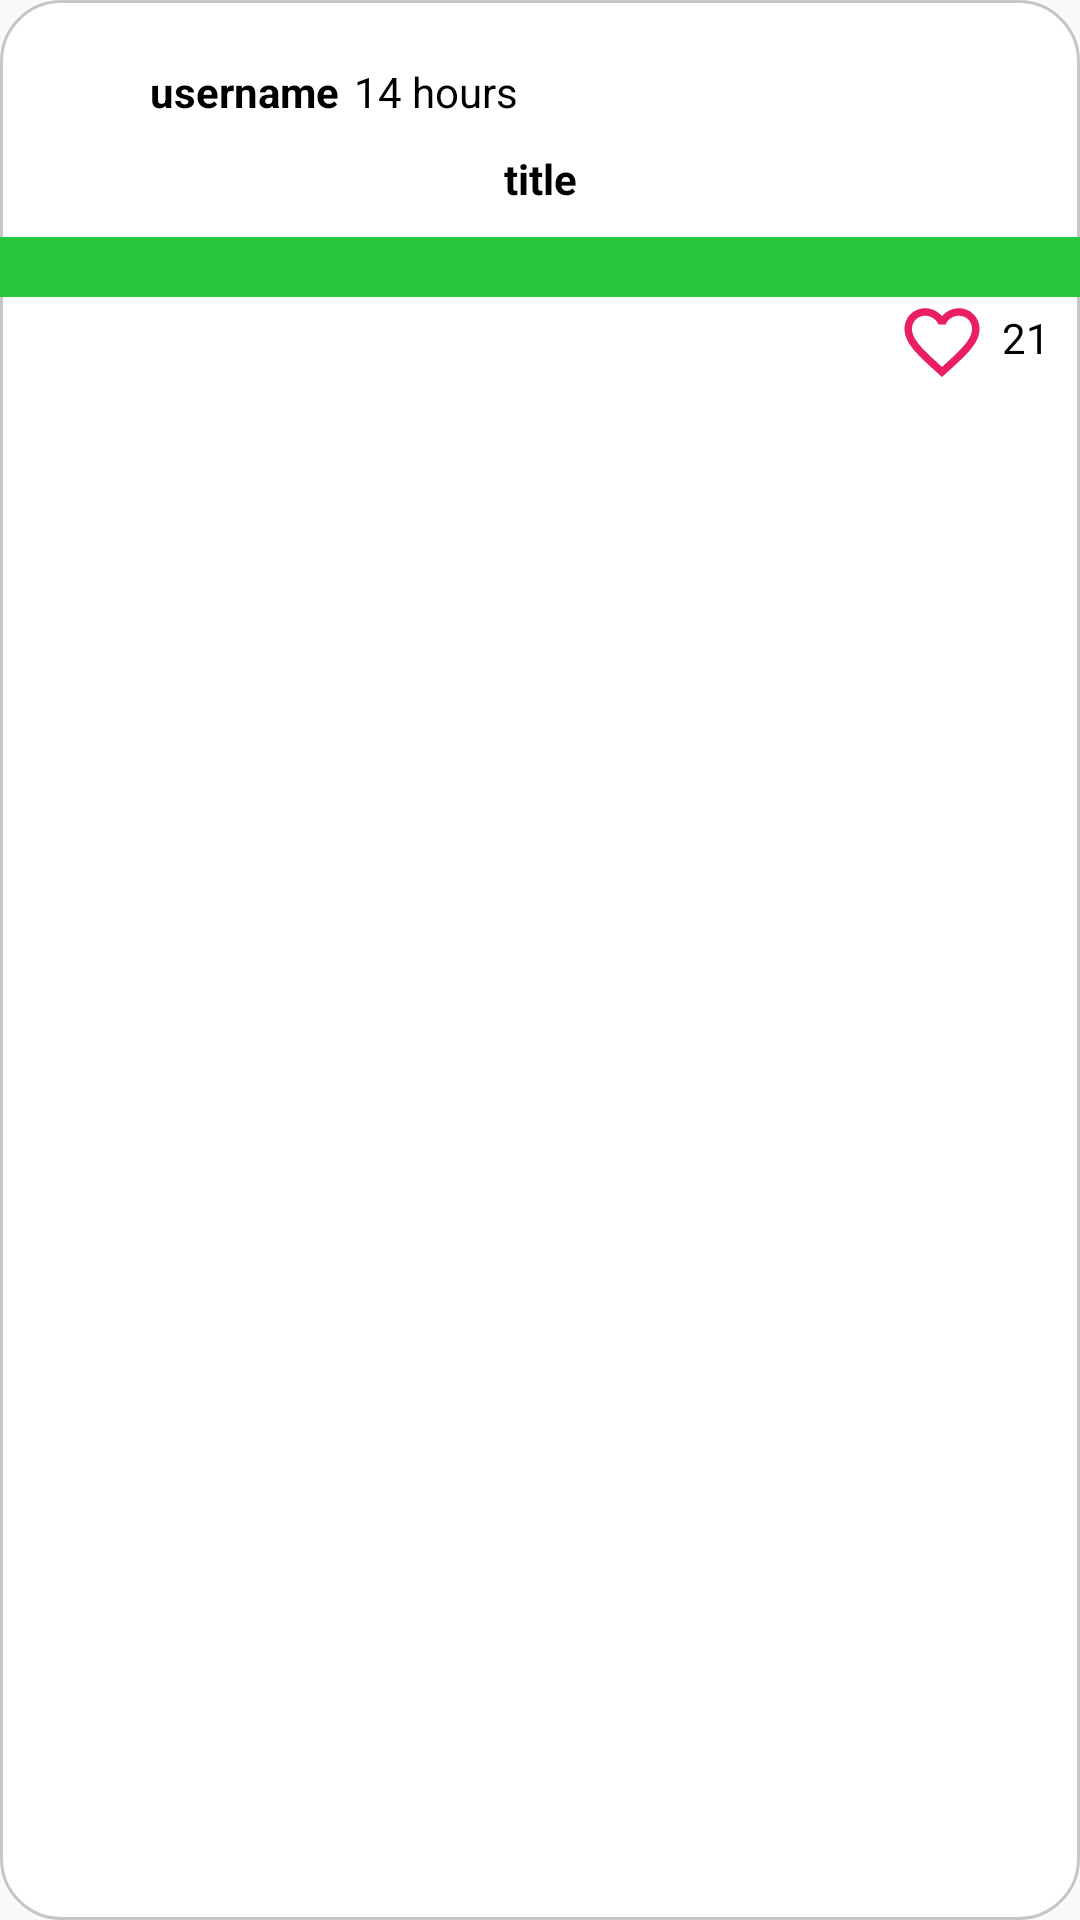

Icons on this 1080 x 1920 Android screen, each with the point to tap as [x,y]:
favorite border: [942,342]
